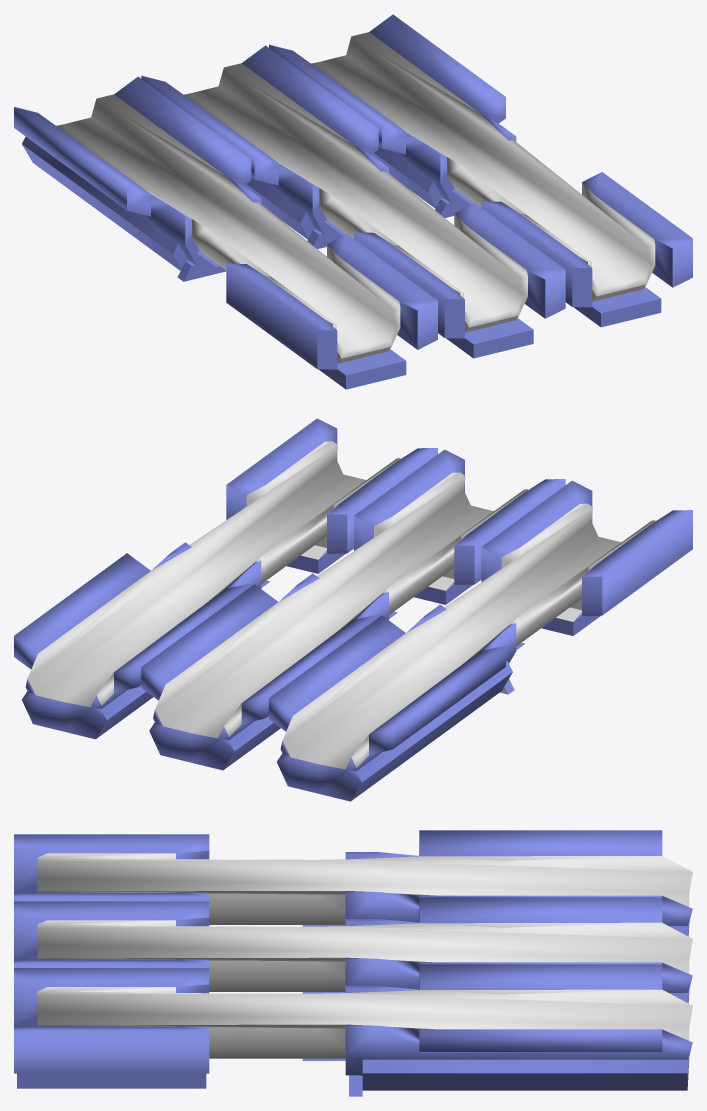
Rendered from rocketlauncher_test1_level3.fbx.
The picture shows the model from 3 angles, top to bottom: view 1: azimuth 30°, elevation 25°; view 2: azimuth 150°, elevation 25°; view 3: azimuth 270°, elevation 25°; orthographic projection. The views are drawn at different scales.
Visible parts, largest first — view 1: rocket_launcher_lv3.1, rocket_launcher_lv3.2, rocket_launcher_lv3.3; view 2: rocket_launcher_lv3.1, rocket_launcher_lv3.3, rocket_launcher_lv3.2; view 3: rocket_launcher_lv3.3, rocket_launcher_lv3.1, rocket_launcher_lv3.2.
Part boxes in pixels (<box>): rocket_launcher_lv3.1: <box>14,76,437,389</box>; rocket_launcher_lv3.2: <box>141,45,565,358</box>; rocket_launcher_lv3.3: <box>269,14,692,327</box>; rocket_launcher_lv3.1: <box>269,480,692,801</box>; rocket_launcher_lv3.3: <box>14,418,437,739</box>; rocket_launcher_lv3.2: <box>141,449,565,770</box>; rocket_launcher_lv3.3: <box>14,964,692,1096</box>; rocket_launcher_lv3.1: <box>14,830,692,936</box>; rocket_launcher_lv3.2: <box>14,897,692,1003</box>.
Bounding box in the file's own units: 144 × 27 × 208.
